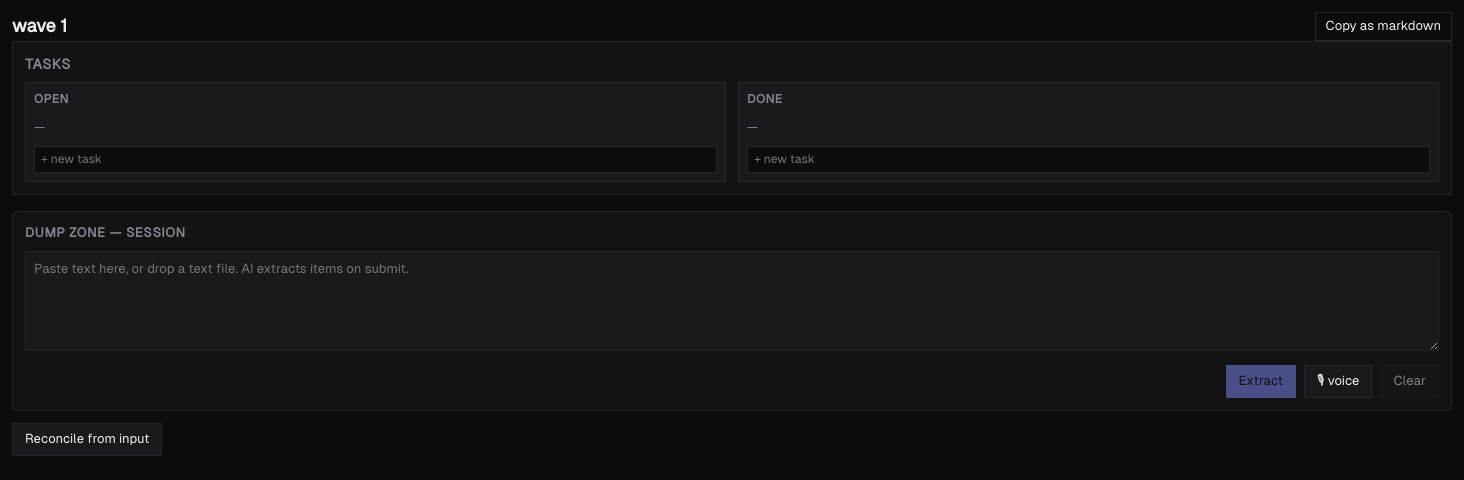
SessionView (freeform bundle) › inline-creates a task via the open column and lands it in the board
Expected: the heading "wave 1" is shown, [12, 13, 67, 40]
Step 1. Type "fresh task" into the field named "New task in open" → (376, 160), box [34, 146, 717, 173]
Then press Enter
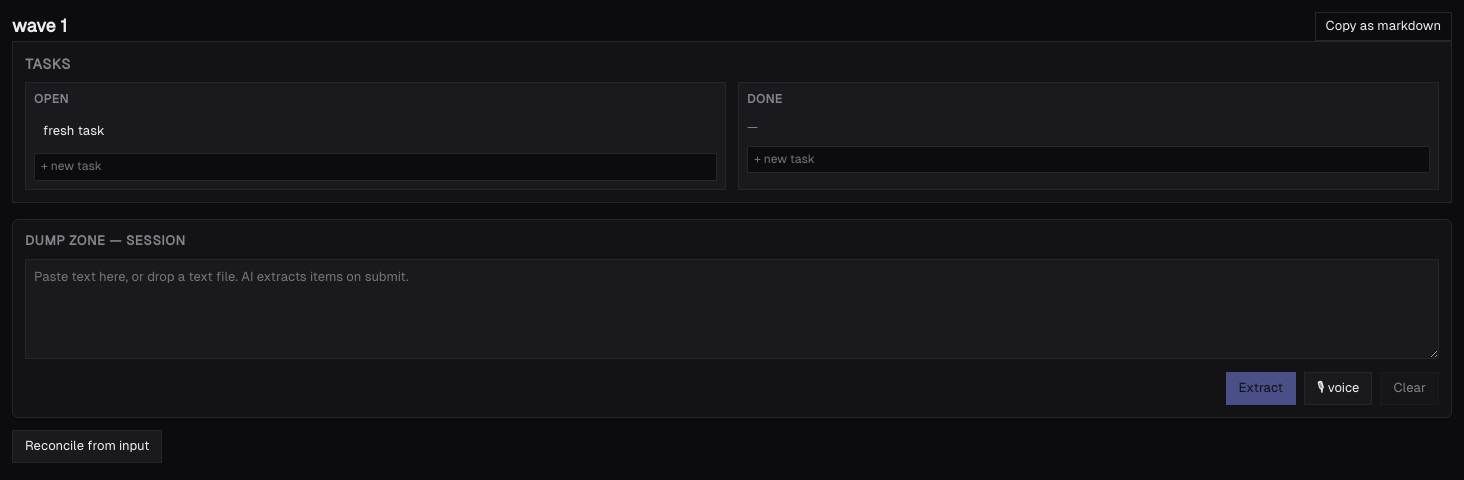
Expected: the text "fresh task" is shown, [43, 122, 105, 138]
